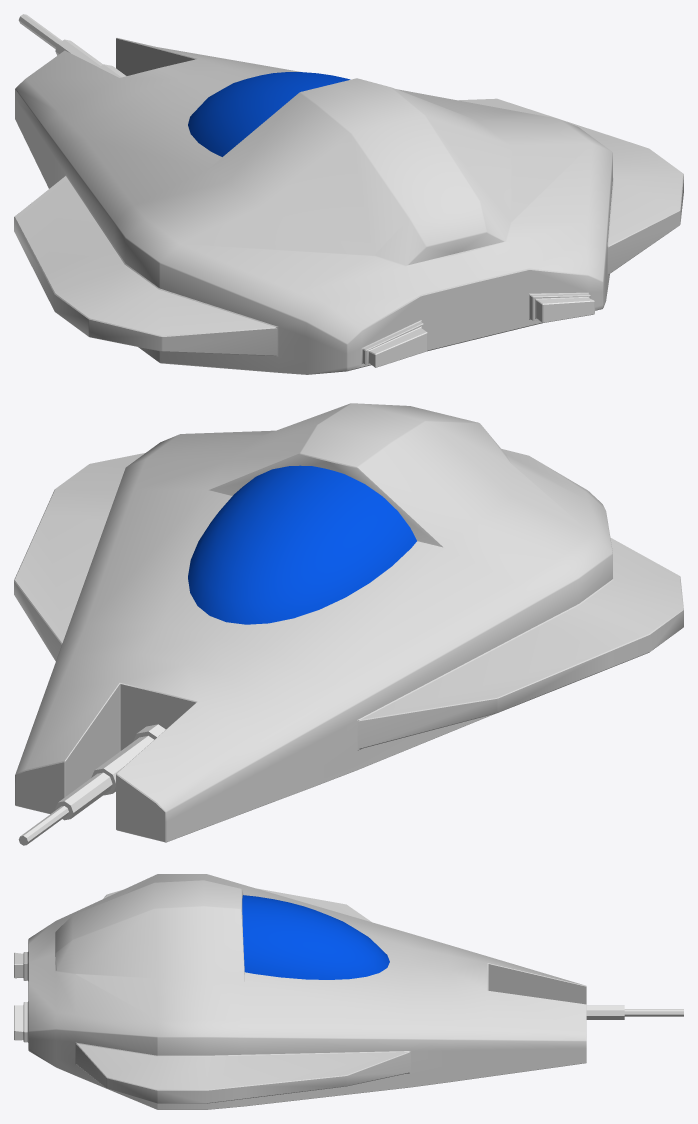
The model's file is asteroidship.fbx.
The picture shows the model from 3 angles, top to bottom: view 1: azimuth 30°, elevation 25°; view 2: azimuth 150°, elevation 25°; view 3: azimuth 270°, elevation 25°; orthographic projection. The views are drawn at different scales.
Visible parts, largest first — view 1: asteroidship, Sphere, Cylinder; view 2: asteroidship, Sphere, Cylinder; view 3: asteroidship, Sphere, Cylinder.
Boxes of the visible parts, x1,y1,x2,y2 form: asteroidship: (14,38,683,374); Sphere: (188,72,350,156); Cylinder: (18,14,126,77); asteroidship: (14,403,683,842); Sphere: (188,465,416,624); Cylinder: (18,724,165,845); asteroidship: (14,874,586,1109); Sphere: (242,895,389,979); Cylinder: (586,1005,683,1019).
Bounding box in the file's own units: 787 × 250 × 1058.
